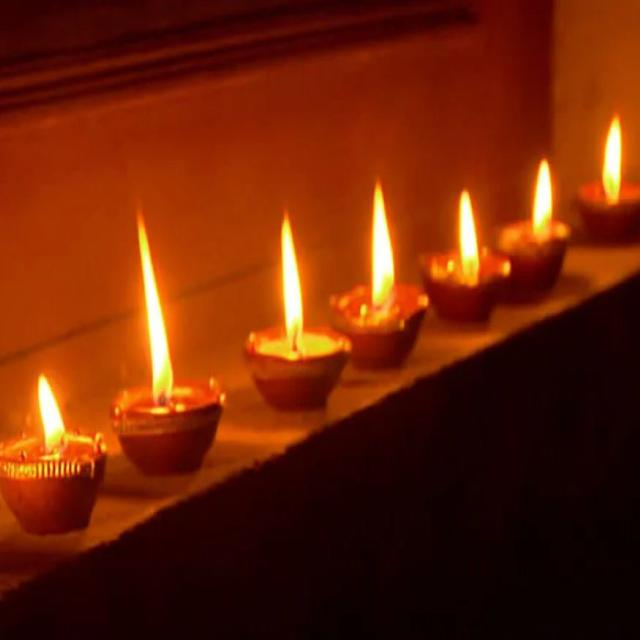fire: (137, 203, 174, 405), (372, 182, 398, 309), (281, 213, 303, 350), (458, 189, 478, 287), (39, 374, 64, 452), (532, 159, 552, 245), (603, 115, 621, 205)
